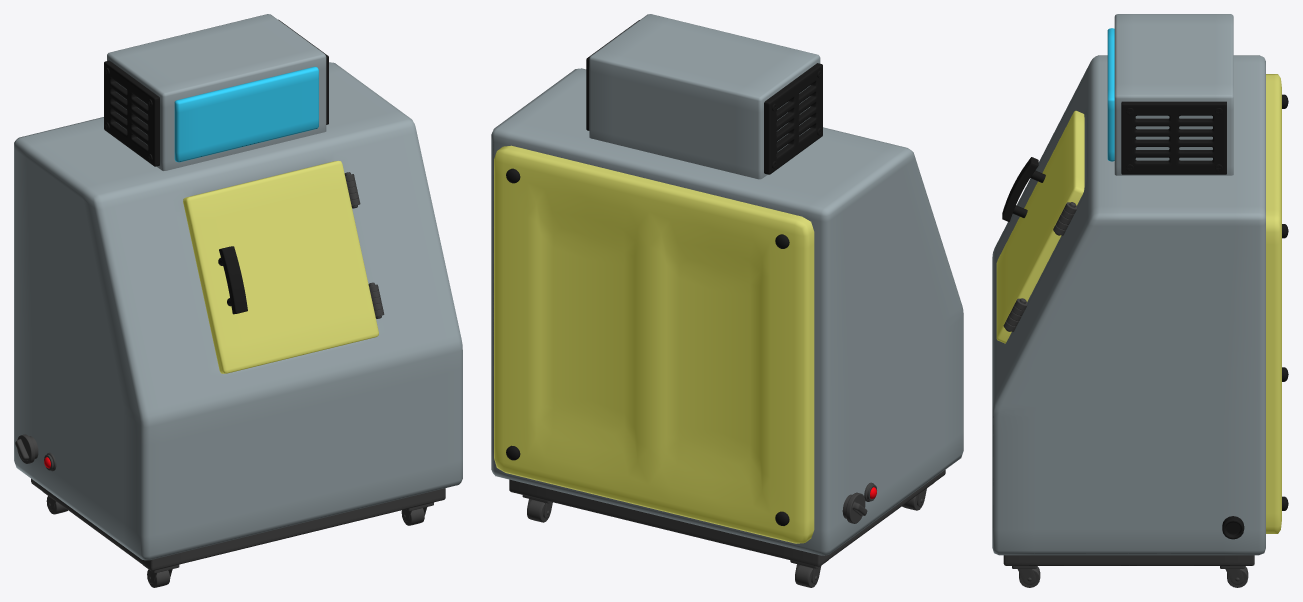
File: Icebox.fbx
3 views of the same model, side by side, from view 1: azimuth 30°, elevation 25°; view 2: azimuth 150°, elevation 25°; view 3: azimuth 270°, elevation 25° (orthographic). The views are drawn at different scales.
Visible parts, largest first — view 1: body, door, vent_box, sign, base, vent_2, handle; view 2: black_plate, body, vent_box, base, vent_2; view 3: body, vent_box, door, black_plate, vent_1, base, sign, handle, plug.
Part boxes in pixels (<box>): body: <box>14,62,462,560</box>; door: <box>183,160,378,373</box>; vent_box: <box>107,14,326,170</box>; sign: <box>174,66,318,162</box>; base: <box>31,478,445,570</box>; vent_2: <box>104,60,159,166</box>; handle: <box>219,246,247,314</box>; black_plate: <box>494,145,814,543</box>; body: <box>491,68,963,555</box>; vent_box: <box>589,14,820,179</box>; base: <box>509,470,945,566</box>; vent_2: <box>764,63,822,174</box>; body: <box>992,55,1265,555</box>; vent_box: <box>1114,14,1233,175</box>; door: <box>996,110,1084,343</box>; black_plate: <box>1266,74,1281,533</box>; vent_1: <box>1121,101,1226,174</box>; base: <box>1003,555,1254,565</box>; sign: <box>1107,28,1114,161</box>; handle: <box>1002,157,1038,221</box>; plug: <box>1222,516,1244,539</box>.
Size of the model in its own units: 6.07 by 7.63 by 4.39.
